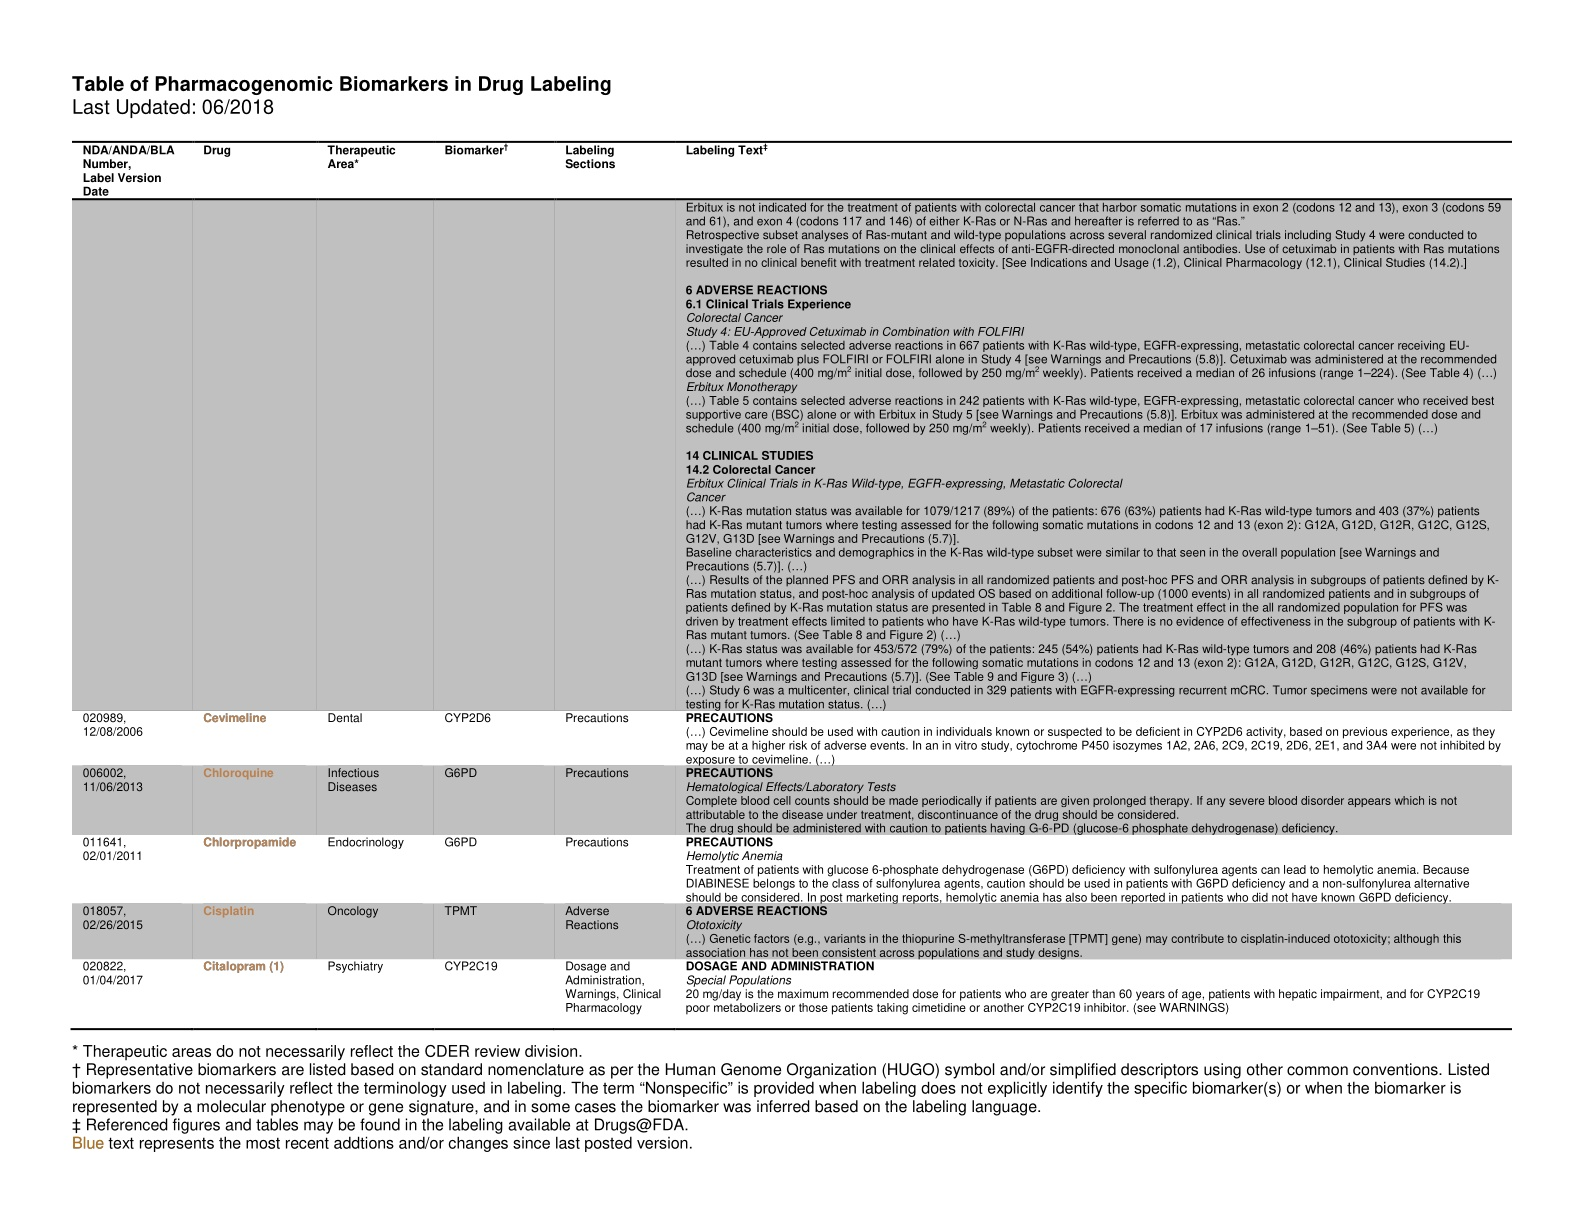full_lined: (71, 140, 1513, 1031)
